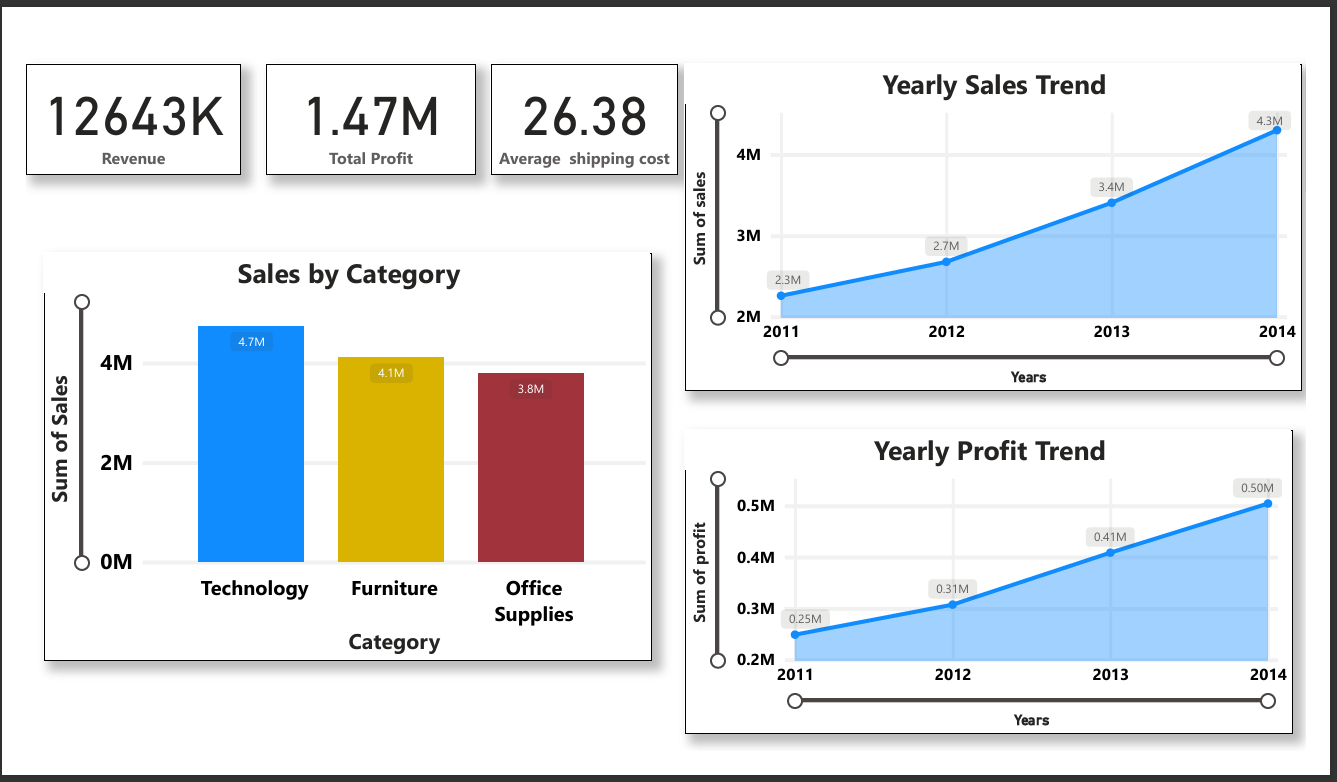

This screenshot's page, from the dashboard's own definition file:
{"tool":"powerbi","page":{"name":" Top Trend","canvas":[1280,720],"ordinal":0},"visuals":[{"type":"card","fields":{"Values":["Sum(Analysed_super_sales.sales)"]},"box":[0,32.9,215.4,111.1],"z":0},{"type":"card","fields":{"Values":["Sum(Analysed_super_sales.profit)"]},"box":[240.1,32.9,209.9,111.1],"z":1000},{"type":"card","fields":{"Values":["Avg(Analysed_super_sales.shipping_cost)"]},"box":[465.2,32.9,186.6,111.1],"z":2000},{"type":"lineChart","title":"Yearly Sales Trend","fields":{"Category":["Analysed_super_sales.year"],"Y":["Sum(Analysed_super_sales.sales)"]},"box":[658.7,32.9,617.5,326.6],"z":3000},{"type":"lineChart","title":"Yearly Profit Trend","fields":{"Category":["Analysed_super_sales.year"],"Y":["Sum(Analysed_super_sales.profit)"]},"box":[658.7,399.3,607.9,303.3],"z":4000},{"type":"columnChart","title":"Sales by Category","fields":{"Y":["Sum(Analysed_super_sales.sales)"],"Category":["Analysed_super_sales.category"]},"box":[17.8,222.3,607.9,407.5],"z":5000}]}

Visuals, with their boxes on the page's 1280x720 design canvas (x1, y1, x2, y2). These are canvas units, not pixel positions in the 1337x782 screenshot, which may show the page scaled, cropped or inside an application window:
card - Sum(Analysed_super_sales.sales): bbox(0, 33, 215, 144)
card - Sum(Analysed_super_sales.profit): bbox(240, 33, 450, 144)
card - Avg(Analysed_super_sales.shipping_cost): bbox(465, 33, 652, 144)
"Yearly Sales Trend" lineChart: bbox(659, 33, 1276, 360)
"Yearly Profit Trend" lineChart: bbox(659, 399, 1267, 703)
"Sales by Category" columnChart: bbox(18, 222, 626, 630)
